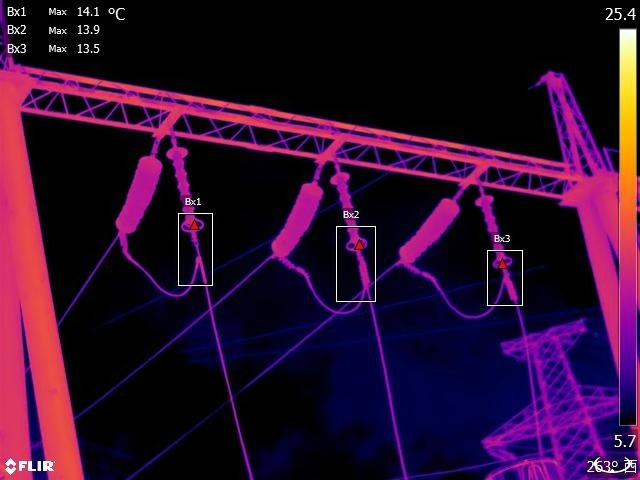clamp: (393, 256, 444, 287), (99, 225, 136, 260), (267, 249, 302, 275), (186, 245, 211, 271), (492, 272, 517, 296)
insulator: (104, 153, 167, 234), (396, 188, 468, 256), (272, 182, 327, 257), (330, 168, 374, 259), (169, 139, 205, 239), (479, 188, 518, 275)
